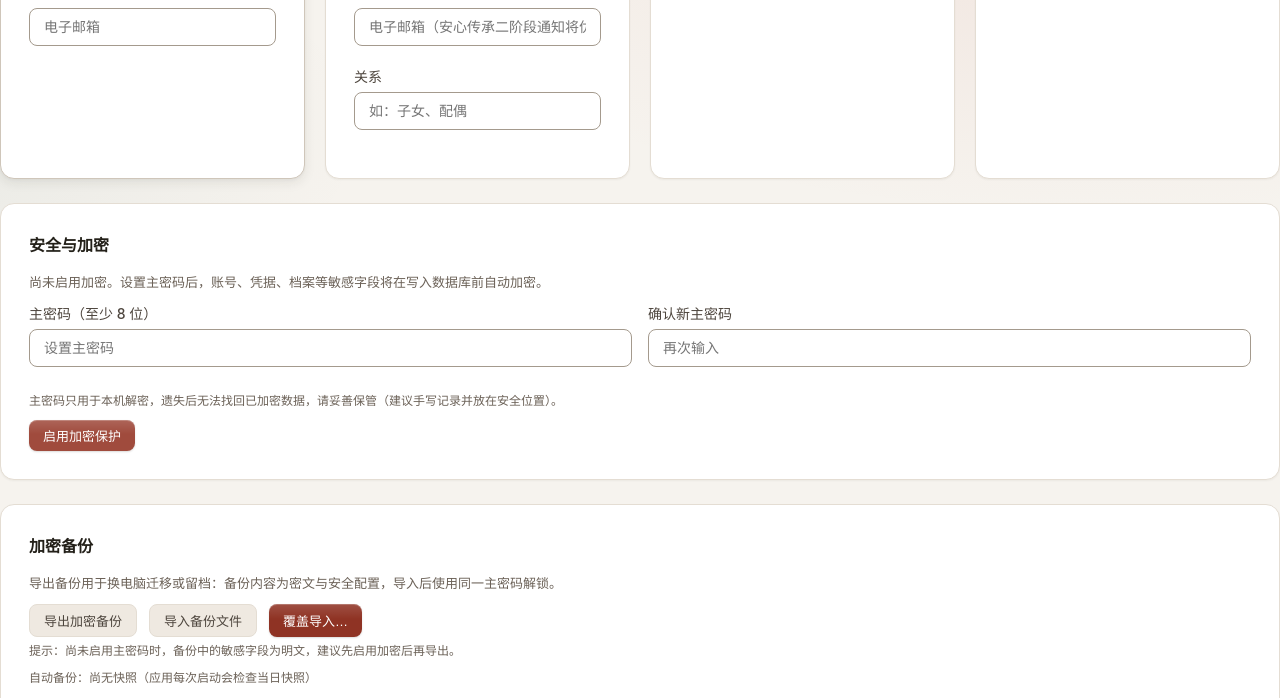
启用主密码 › 后端失败时显示错误且不展示恢复密钥
The width and height of the screenshot is (1280, 698).
(page scrolled)
Type "master-pass-1" into the password field labelled "主密码（至少 8 位）".
click(330, 348); type("master-pass-1")  # box [29,329,632,367]
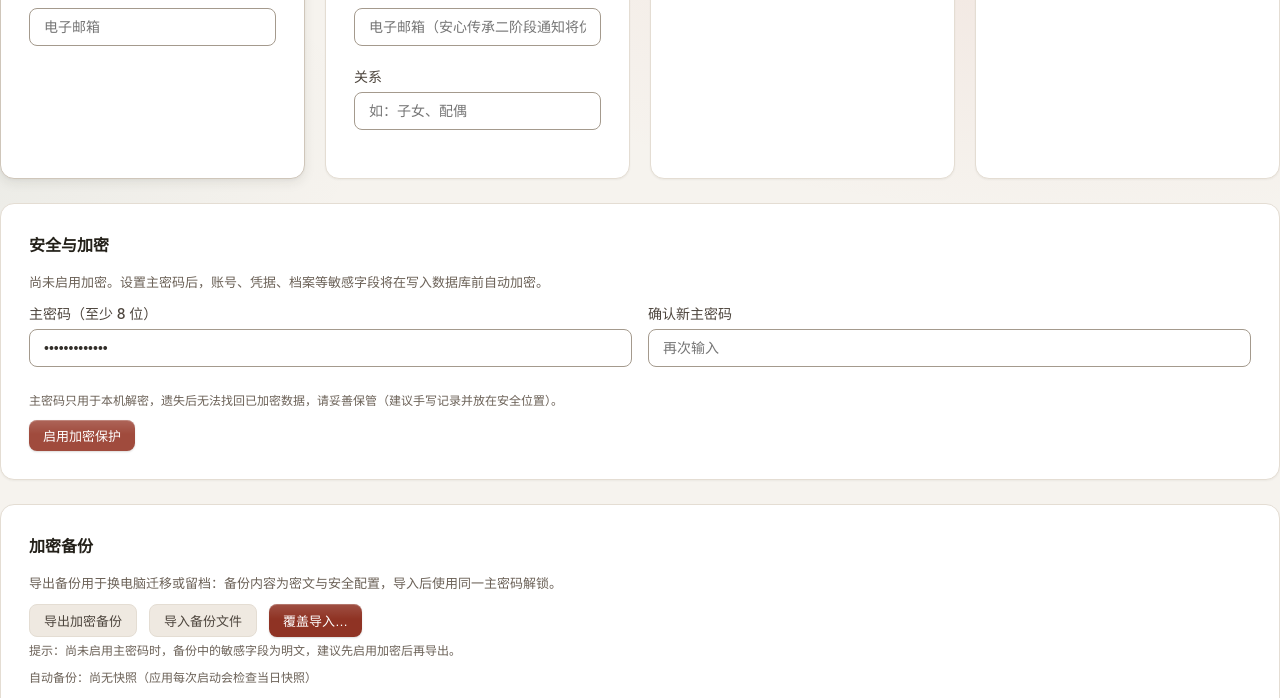
Type "master-pass-1" into the password field labelled "确认新主密码".
click(950, 348); type("master-pass-1")  # box [648,329,1251,367]
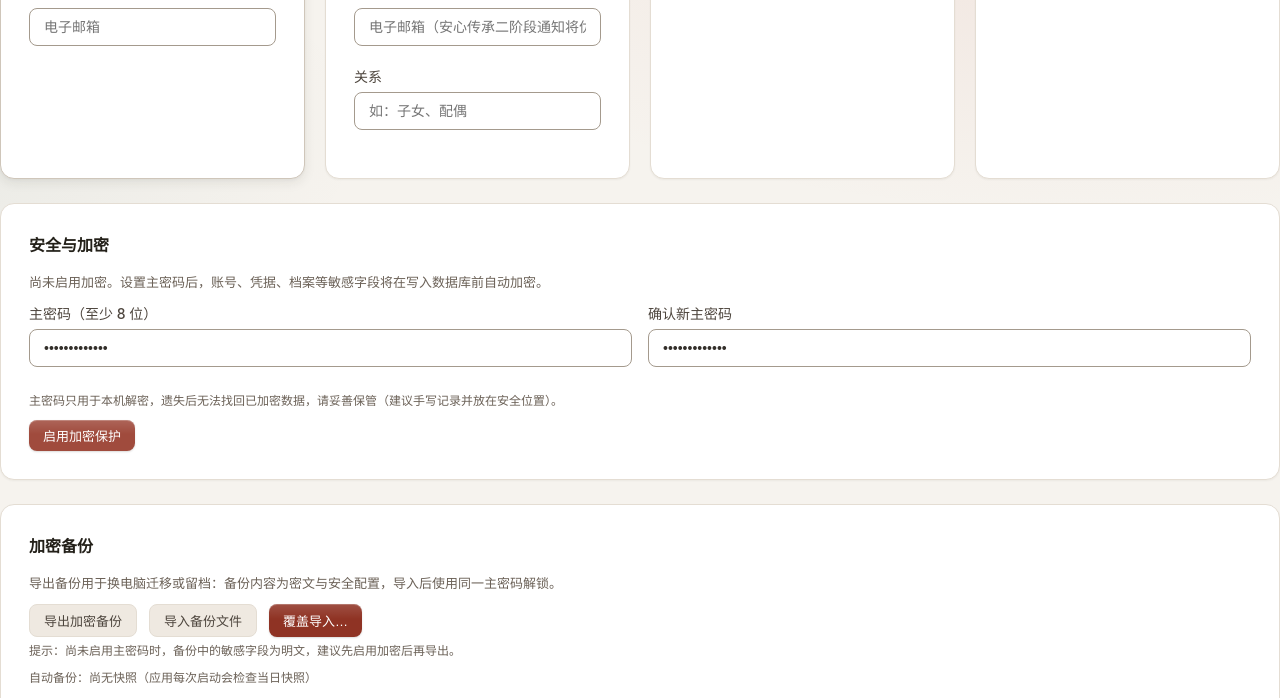
Click the button "启用加密保护".
click(82, 436)  # box [29,420,135,451]
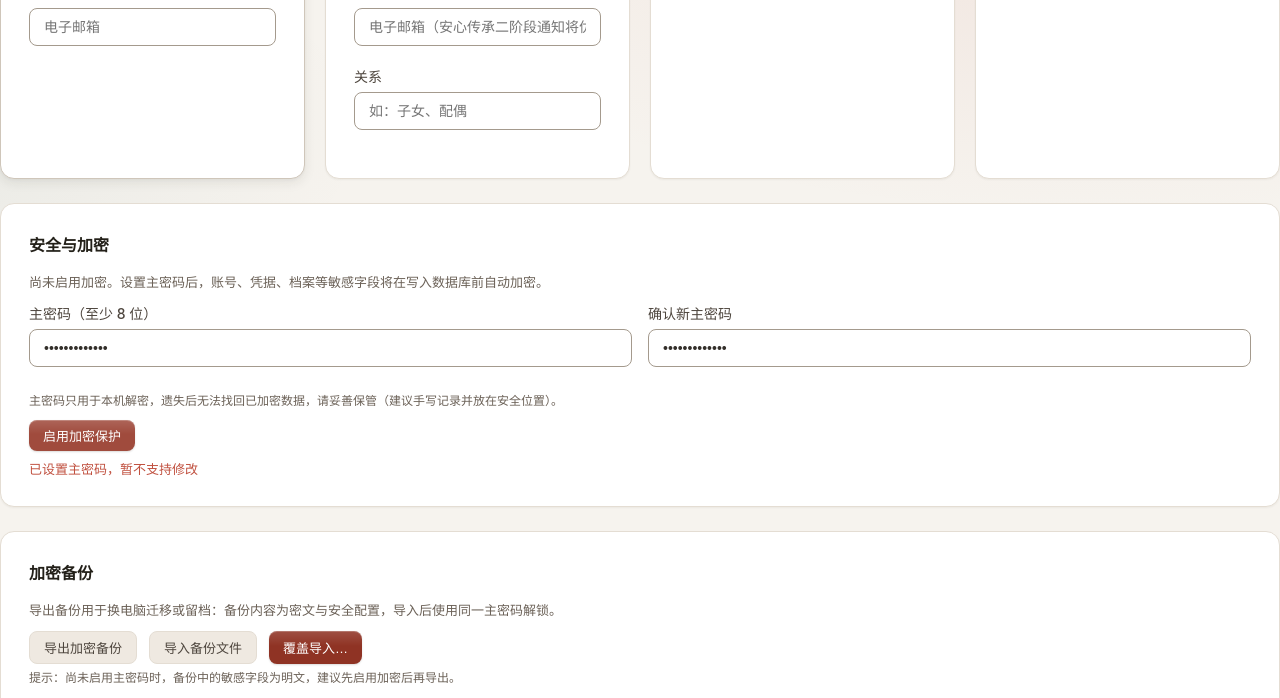
Check: the text "已设置主密码" is shown, box [29,461,198,477]
